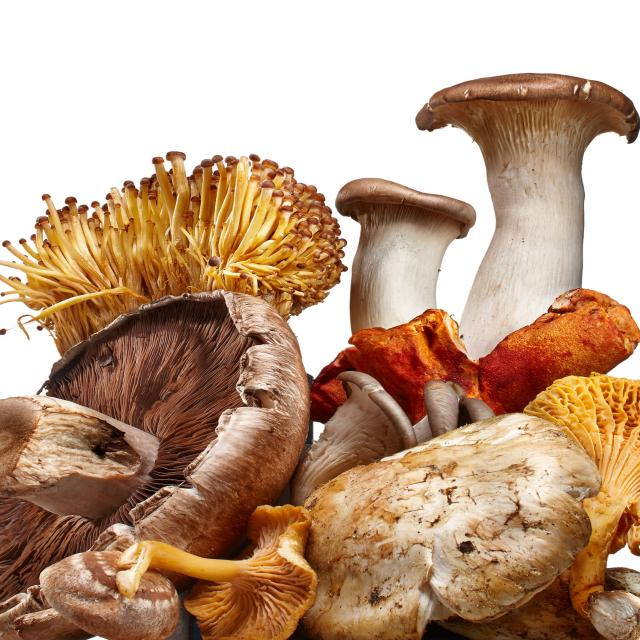Mushroom: (0, 73, 640, 640)
